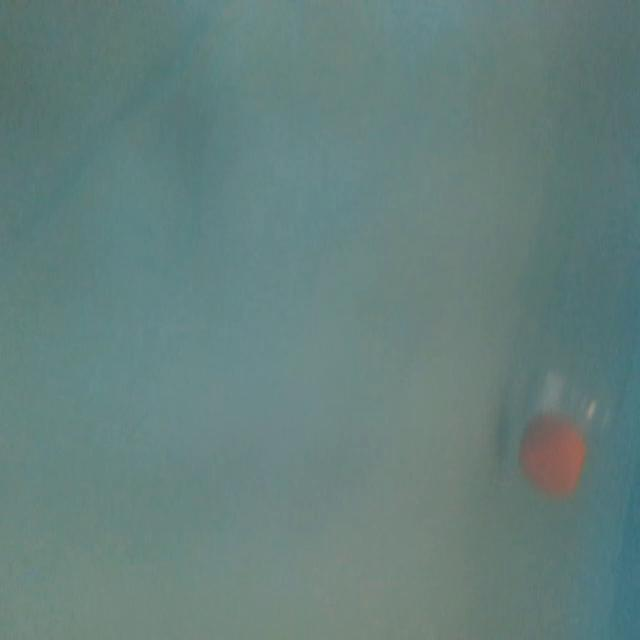plastic bottle: (518, 156, 634, 510)
